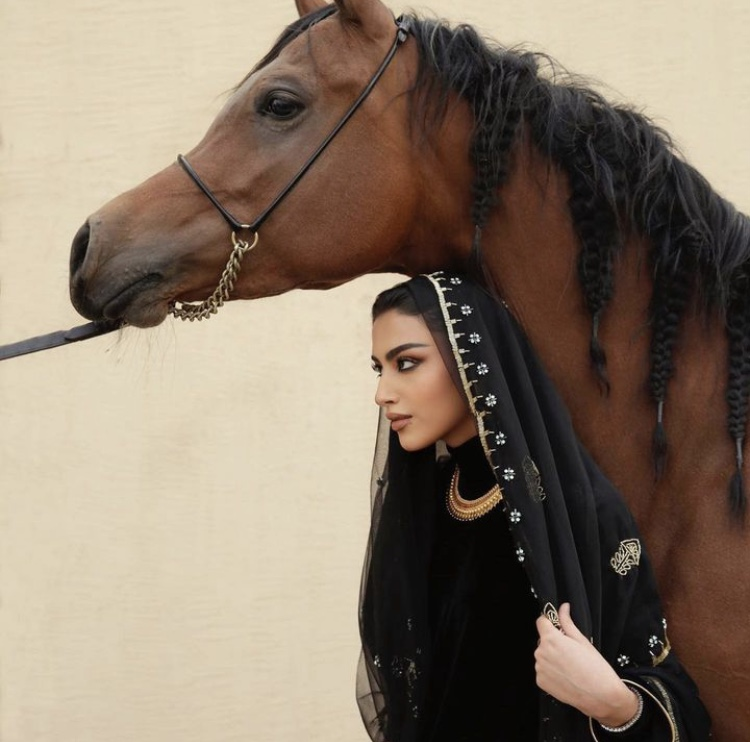Saudi_Founding_Day: (354, 259, 716, 742)
